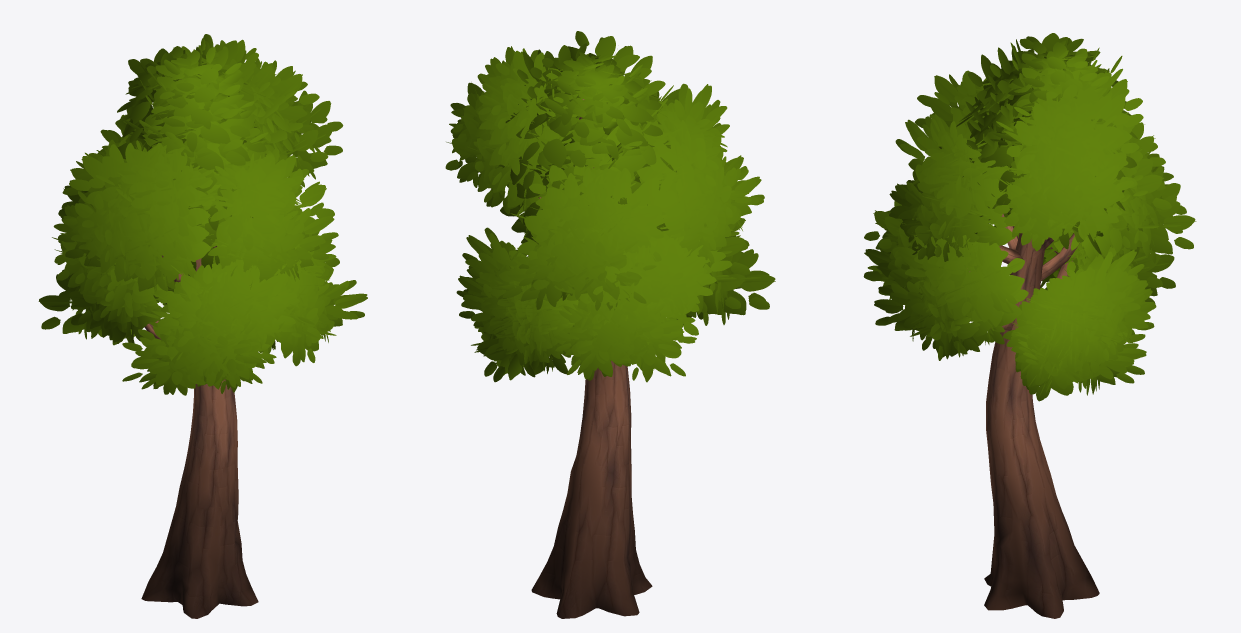
File: arv_carvalho.glb
3 renders of one model, left to right at view 1: azimuth 30°, elevation 25°; view 2: azimuth 150°, elevation 25°; view 3: azimuth 270°, elevation 25°, orthographic. The views are drawn at different scales.
Parts seen in each view (by area): view 1: CommonTree_1; view 2: CommonTree_1; view 3: CommonTree_1.
Boxes of the visible parts, x1,y1,x2,y2 form: CommonTree_1: (38, 34, 367, 618); CommonTree_1: (445, 31, 775, 618); CommonTree_1: (863, 33, 1196, 618).
Size of the model in its own units: 4.31 by 7.26 by 4.58.
2 materials, 2 textured.
